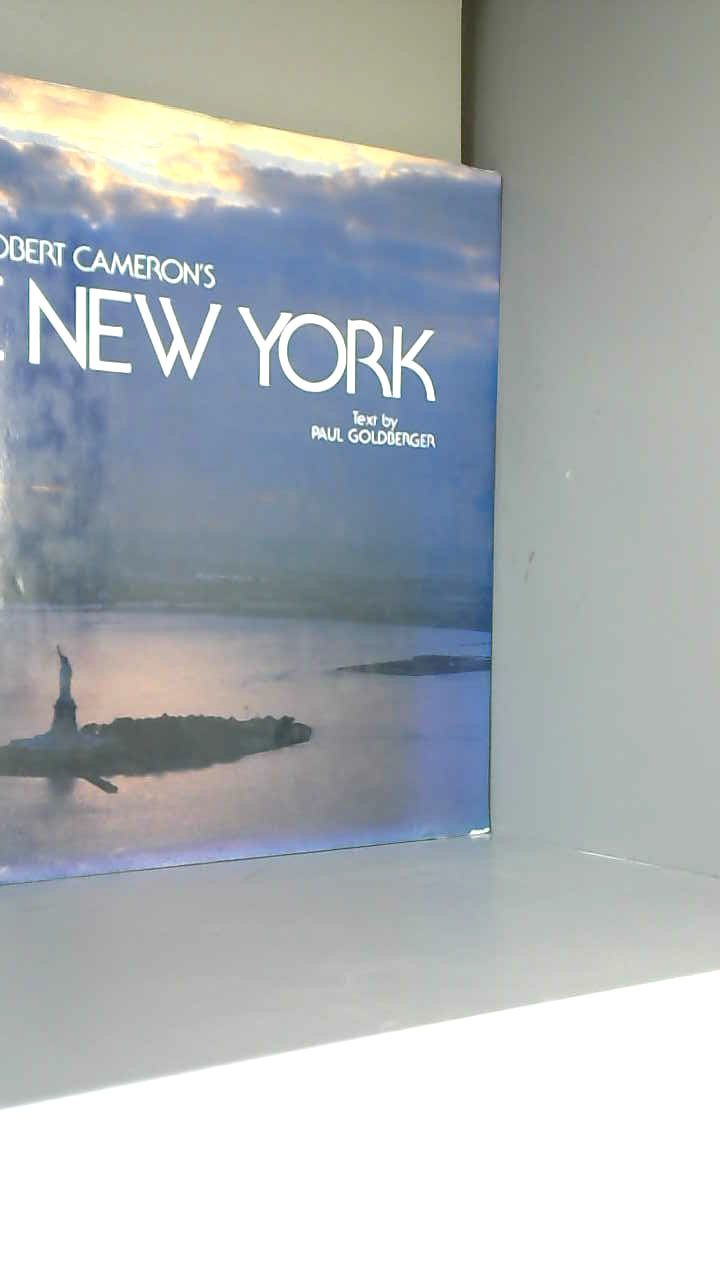book: (0, 54, 546, 908)
